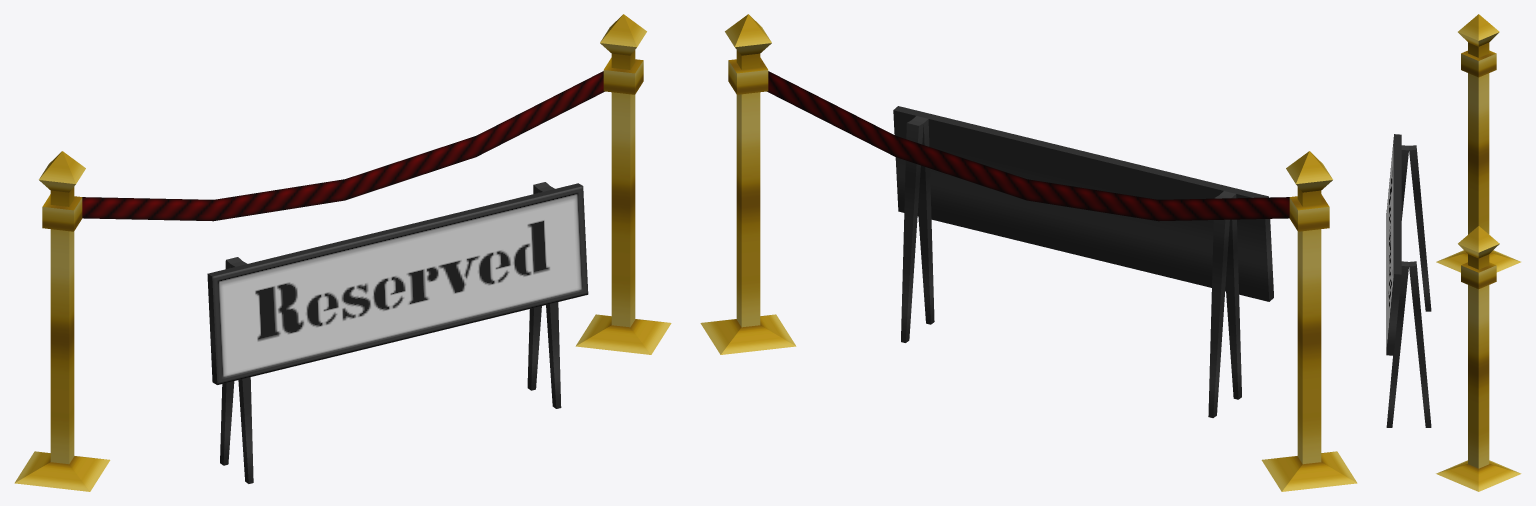
The model's file is Storefront_Reserved.fbx.
The picture shows the model from 3 angles, left to right: view 1: azimuth 30°, elevation 25°; view 2: azimuth 150°, elevation 25°; view 3: azimuth 270°, elevation 25°; orthographic projection. The views are drawn at different scales.
Visible parts, largest first — view 1: Hall.001; view 2: Hall.001; view 3: Hall.001.
Boxes of the visible parts, x1=… form: Hall.001: x1=14, y1=14, x2=671, y2=491; Hall.001: x1=700, y1=14, x2=1357, y2=491; Hall.001: x1=1386, y1=14, x2=1521, y2=491.
Bounding box in the file's own units: 277 × 129 × 63.92.
